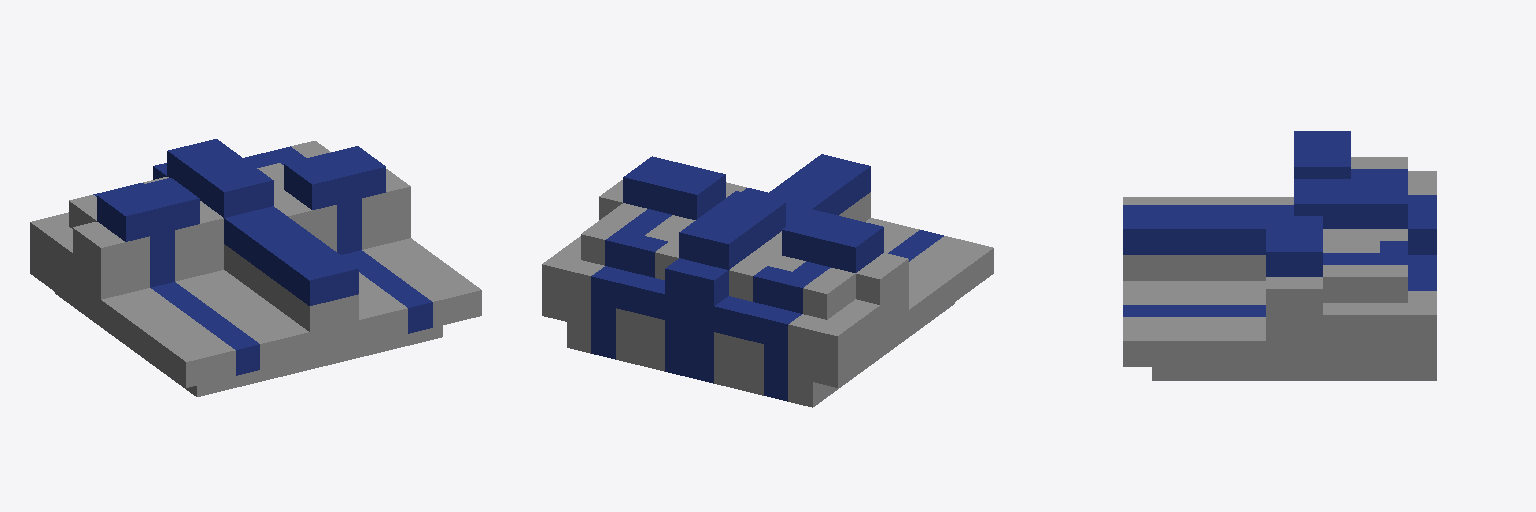
3 views of the same model, side by side, from view 1: azimuth 30°, elevation 25°; view 2: azimuth 150°, elevation 25°; view 3: azimuth 270°, elevation 25° (orthographic).
Parts seen in each view (by area): view 1: object 1; view 2: object 1; view 3: object 1.
Part boxes in pixels (left/top/right/bottom): object 1: left=30, top=139, right=481, bottom=396; object 1: left=542, top=154, right=993, bottom=407; object 1: left=1123, top=131, right=1436, bottom=380.
Bounding box in the file's own units: 1.2 × 0.5 × 1.1.
Materials: 1 (1 with a texture image).